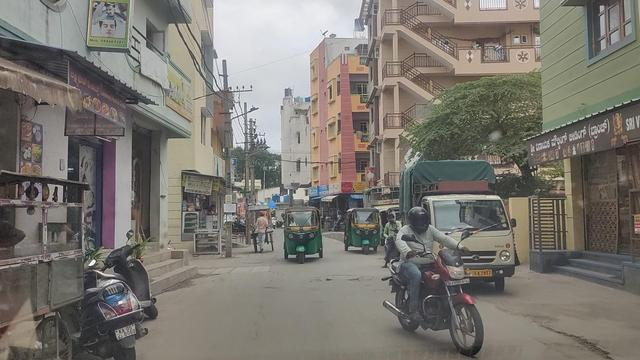HMV: (398, 160, 508, 293)
LMV: (396, 212, 480, 360), (542, 310, 609, 360), (285, 208, 322, 261)
RoadDamages: (200, 261, 270, 276), (316, 269, 373, 286)
